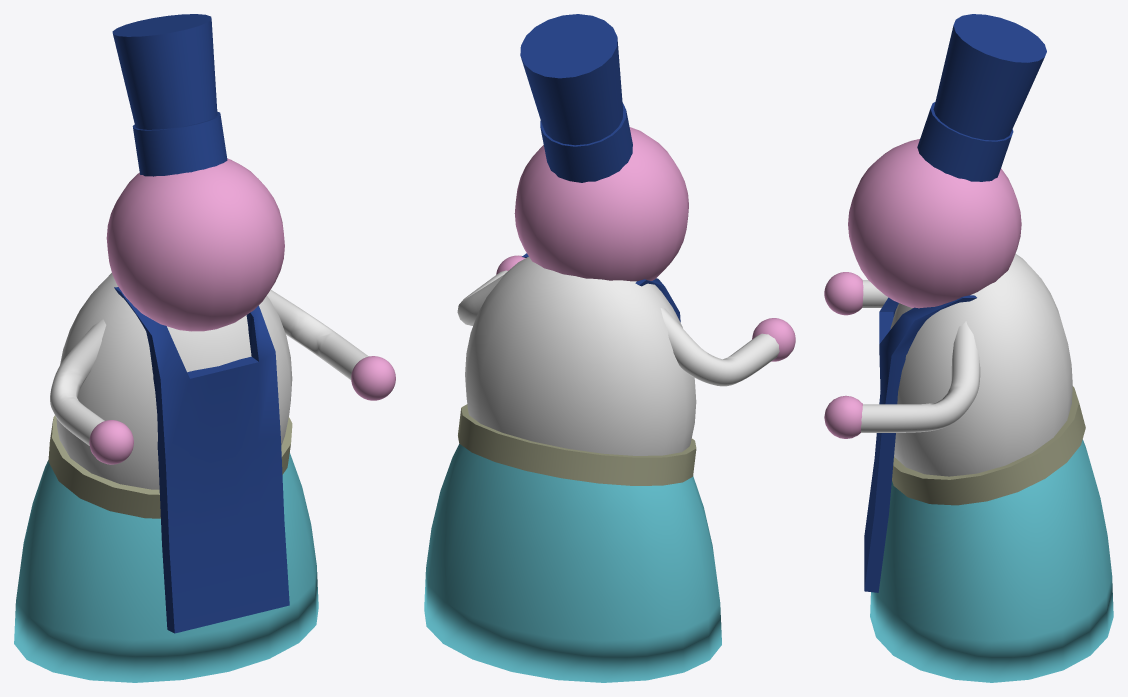
Rendered from bluePlayer_2.fbx.
The picture shows the model from 3 angles, left to right: view 1: azimuth 30°, elevation 25°; view 2: azimuth 150°, elevation 25°; view 3: azimuth 270°, elevation 25°; orthographic projection. The views are drawn at different scales.
Parts seen in each view (by area): view 1: skirt, apron, head, chest, pCylinder1, arm (×2), pCylinder2, belt, pSphere1 (×2); view 2: skirt, chest, head, pCylinder1, belt, arm (×2), pCylinder2, pSphere1; view 3: skirt, chest, head, pCylinder1, apron, belt, arm (×2), pCylinder2, pSphere1 (×2).
Boxes of the visible parts, x1=… form: skirt: x1=14, y1=452, x2=318, y2=682; apron: x1=114, y1=287, x2=289, y2=633; head: x1=106, y1=158, x2=284, y2=331; chest: x1=56, y1=273, x2=292, y2=489; pCylinder1: x1=112, y1=14, x2=217, y2=129; arm (×2): x1=50, y1=290, x2=368, y2=445; pCylinder2: x1=132, y1=111, x2=227, y2=176; belt: x1=48, y1=415, x2=292, y2=518; pSphere1 (×2): x1=89, y1=356, x2=395, y2=464; skirt: x1=424, y1=444, x2=721, y2=682; chest: x1=465, y1=256, x2=696, y2=455; head: x1=514, y1=127, x2=688, y2=281; pCylinder1: x1=520, y1=14, x2=623, y2=145; belt: x1=458, y1=404, x2=696, y2=485; arm (×2): x1=457, y1=270, x2=779, y2=386; pCylinder2: x1=540, y1=103, x2=632, y2=182; pSphere1: x1=752, y1=318, x2=795, y2=361; skirt: x1=870, y1=439, x2=1113, y2=682; chest: x1=890, y1=253, x2=1072, y2=476; head: x1=848, y1=139, x2=1021, y2=308; pCylinder1: x1=933, y1=14, x2=1046, y2=140; apron: x1=864, y1=295, x2=976, y2=592; belt: x1=892, y1=386, x2=1085, y2=505; arm (×2): x1=860, y1=280, x2=980, y2=432; pCylinder2: x1=917, y1=102, x2=1013, y2=181; pSphere1 (×2): x1=824, y1=272, x2=863, y2=438.
Size of the model in its own units: 23.24 by 45.1 by 20.
